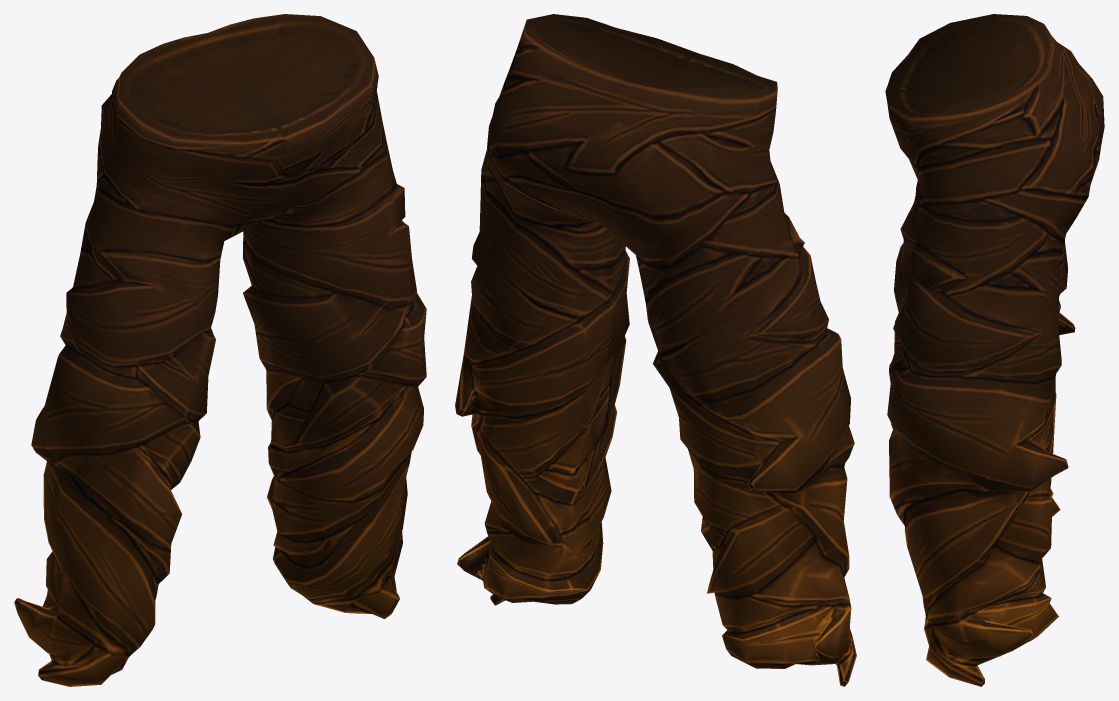
File: female_pants1.glb
The picture shows the model from 3 angles, left to right: view 1: azimuth 30°, elevation 25°; view 2: azimuth 150°, elevation 25°; view 3: azimuth 270°, elevation 25°; orthographic projection. The views are drawn at different scales.
Visible parts, largest first — view 1: node_id221; view 2: node_id221; view 3: node_id221.
Part boxes in pixels (left/top/right/bottom): node_id221: left=14, top=14, right=426, bottom=686; node_id221: left=455, top=14, right=856, bottom=686; node_id221: left=885, top=14, right=1104, bottom=686.
Bounding box in the file's own units: 0.3373 × 0.512 × 0.1785.
Materials: 1 (1 with a texture image).
